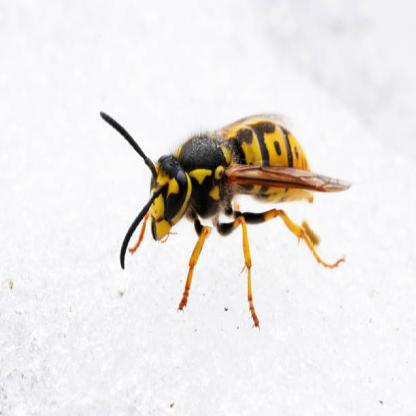sawfly: (90, 105, 355, 332)
